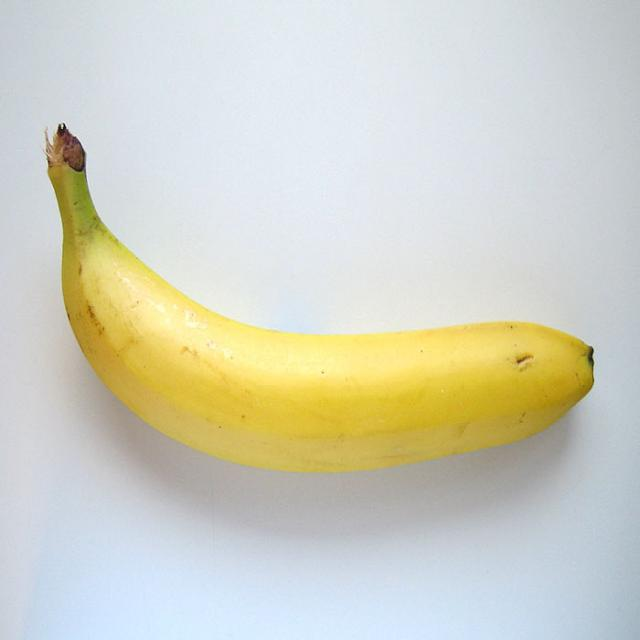Banana: (43, 125, 598, 471)
